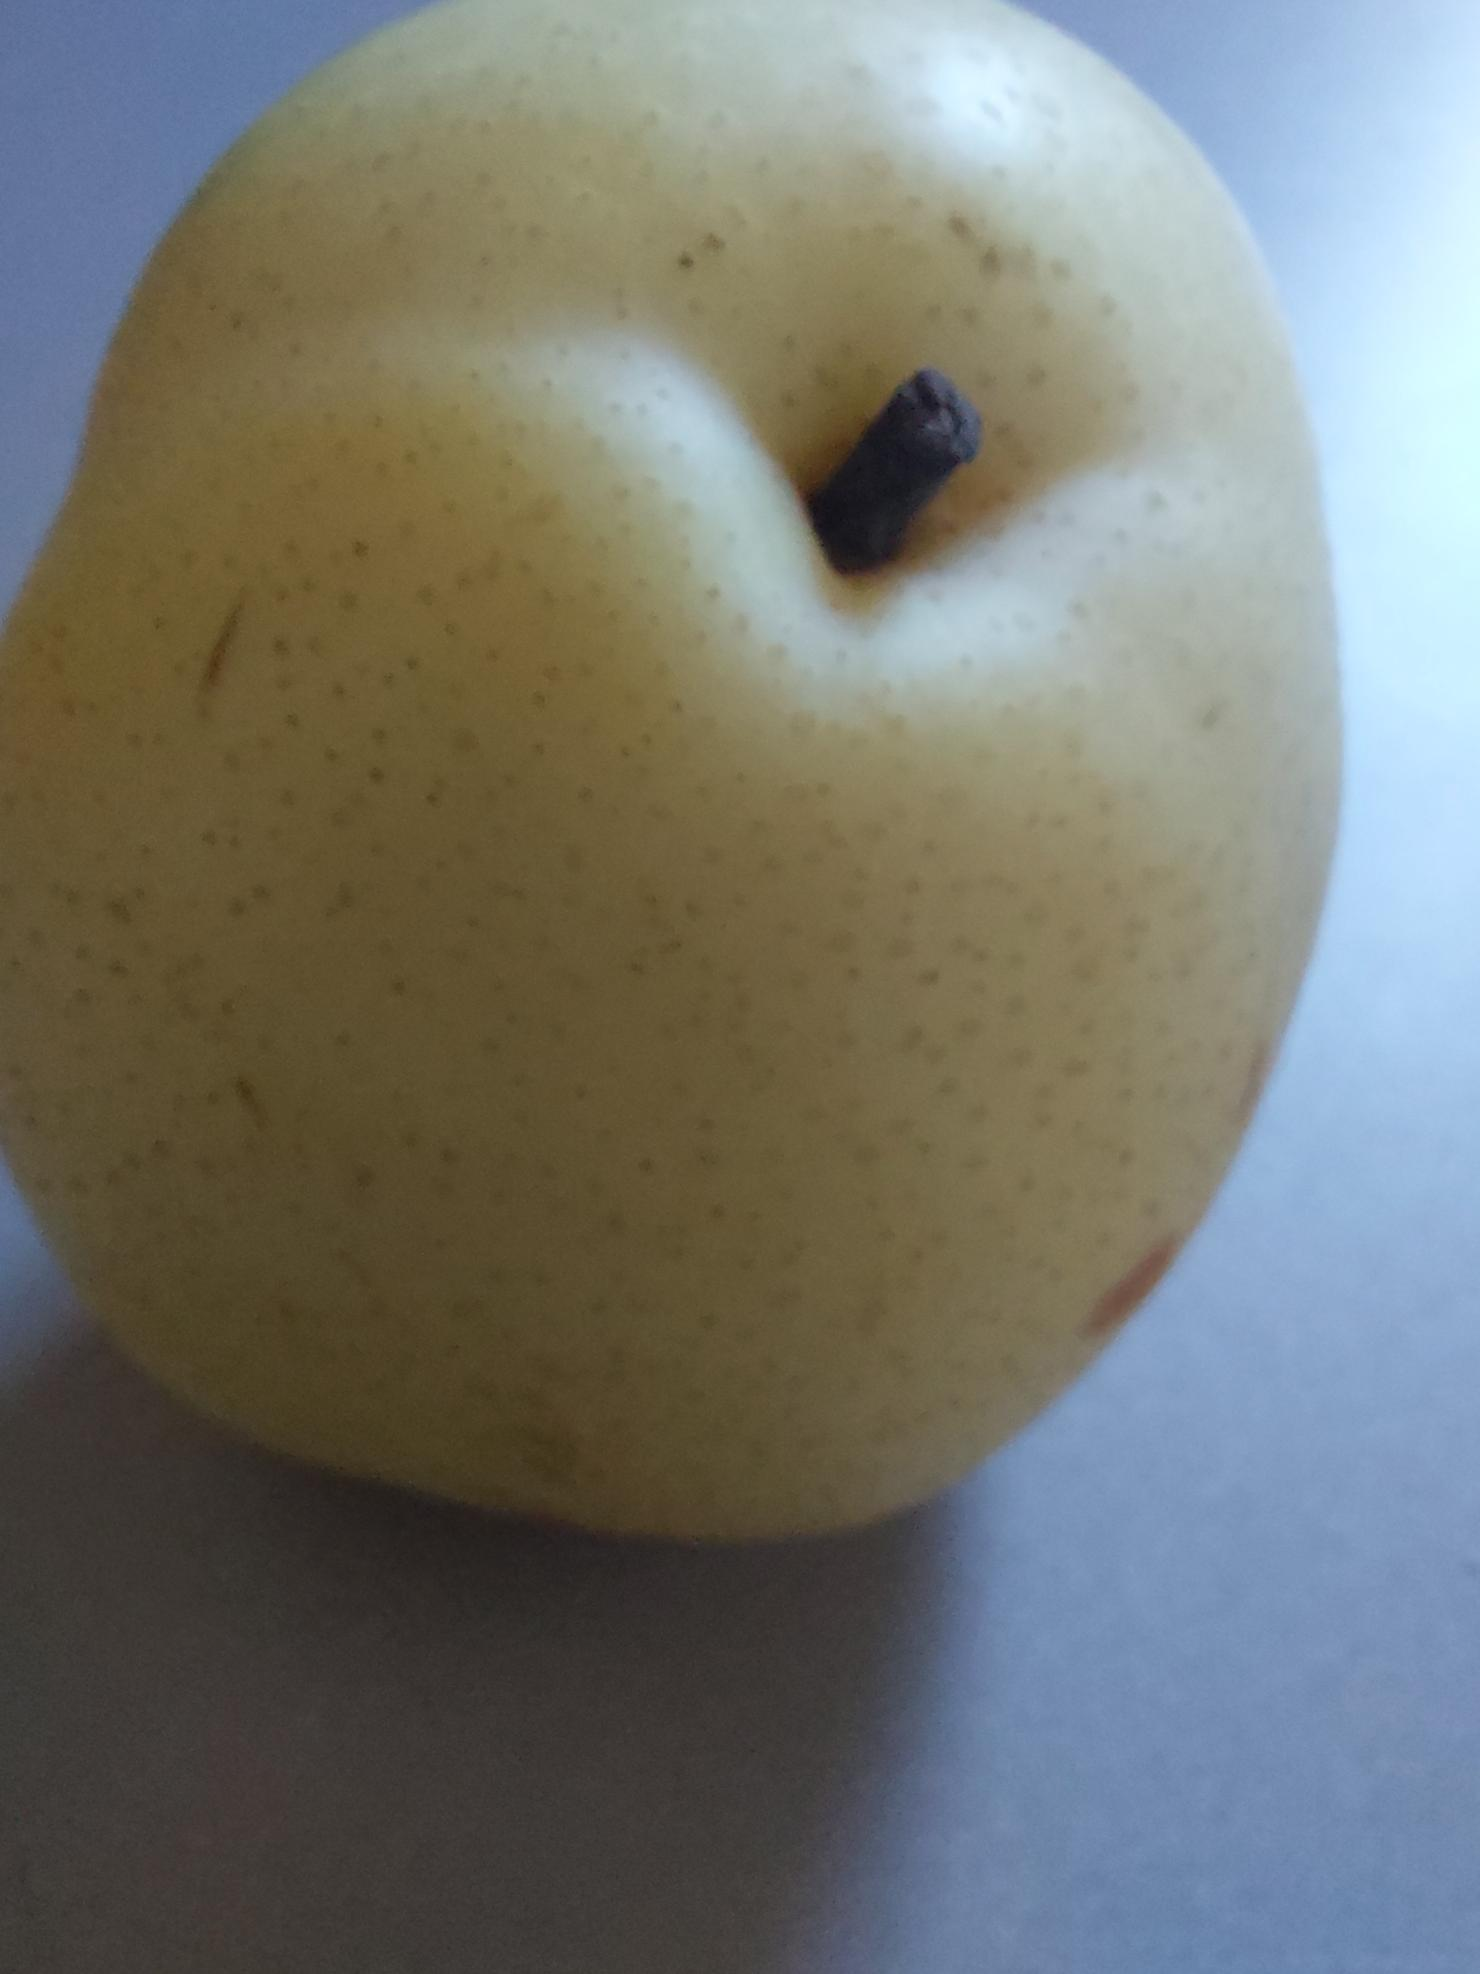Good Pear: (0, 0, 1480, 1627)
